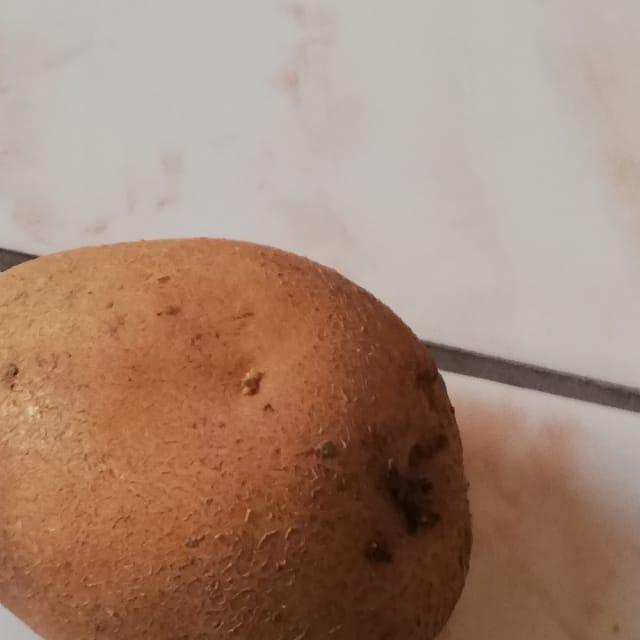potato: (0, 219, 495, 640)
